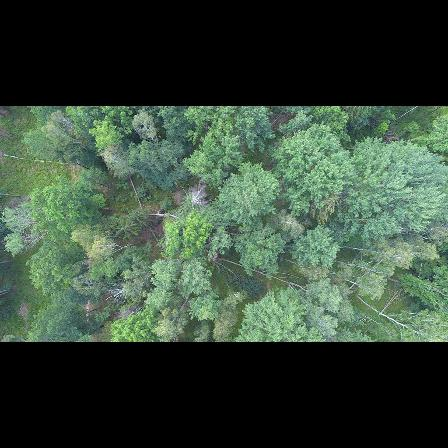Dead: (379, 282, 411, 316), (15, 225, 54, 252), (181, 182, 210, 213), (100, 237, 137, 261), (105, 276, 133, 304)
